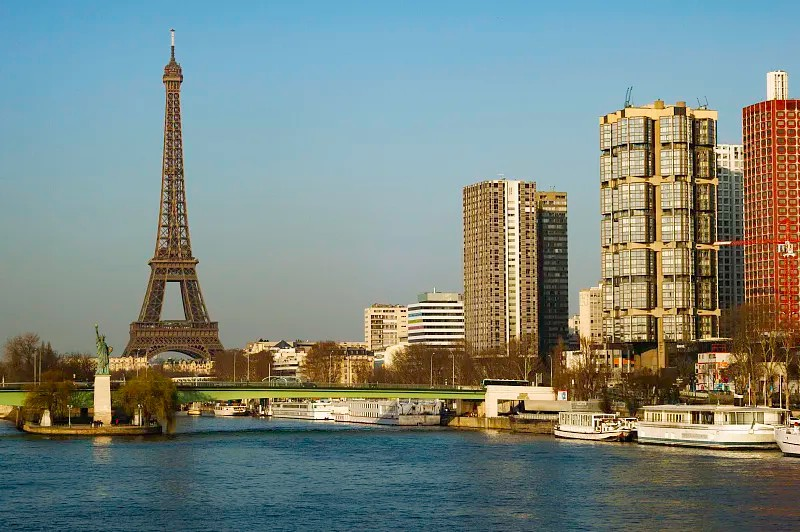Eiffel: (121, 29, 222, 363)
